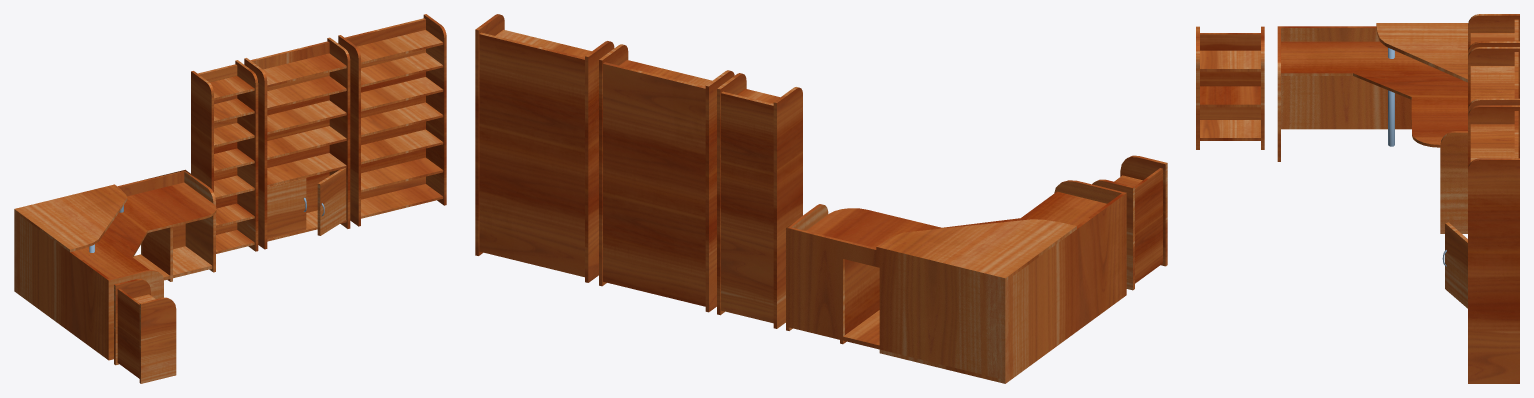
Rendered from Furnitures_0_1.fbx.
3 views of the same model, side by side, from view 1: azimuth 30°, elevation 25°; view 2: azimuth 150°, elevation 25°; view 3: azimuth 270°, elevation 25° (orthographic). The views are drawn at different scales.
Parts seen in each view (by area): view 1: defaultMaterial.002, defaultMaterial.004, defaultMaterial.006, defaultMaterial.003, defaultMaterial; view 2: defaultMaterial.002, defaultMaterial.004, defaultMaterial.006, defaultMaterial.003, defaultMaterial; view 3: defaultMaterial.002, defaultMaterial.004, defaultMaterial, defaultMaterial.006, defaultMaterial.003.
Boxes of the visible parts, box(x1,y1,x2,y2) form: defaultMaterial.002: box(14, 169, 216, 360); defaultMaterial.004: box(338, 14, 446, 226); defaultMaterial.006: box(244, 37, 350, 249); defaultMaterial.003: box(191, 60, 258, 253); defaultMaterial: box(114, 279, 176, 383); defaultMaterial.002: box(786, 180, 1126, 383); defaultMaterial.004: box(475, 14, 614, 282); defaultMaterial.006: box(599, 44, 734, 312); defaultMaterial.003: box(717, 73, 802, 328); defaultMaterial: box(1092, 155, 1167, 290); defaultMaterial.002: box(1277, 23, 1468, 233); defaultMaterial.004: box(1468, 105, 1519, 383); defaultMaterial: box(1196, 26, 1264, 149); defaultMaterial.006: box(1442, 47, 1519, 308); defaultMaterial.003: box(1468, 14, 1519, 56).
Size of the model in its own units: 393 by 160 by 210.
